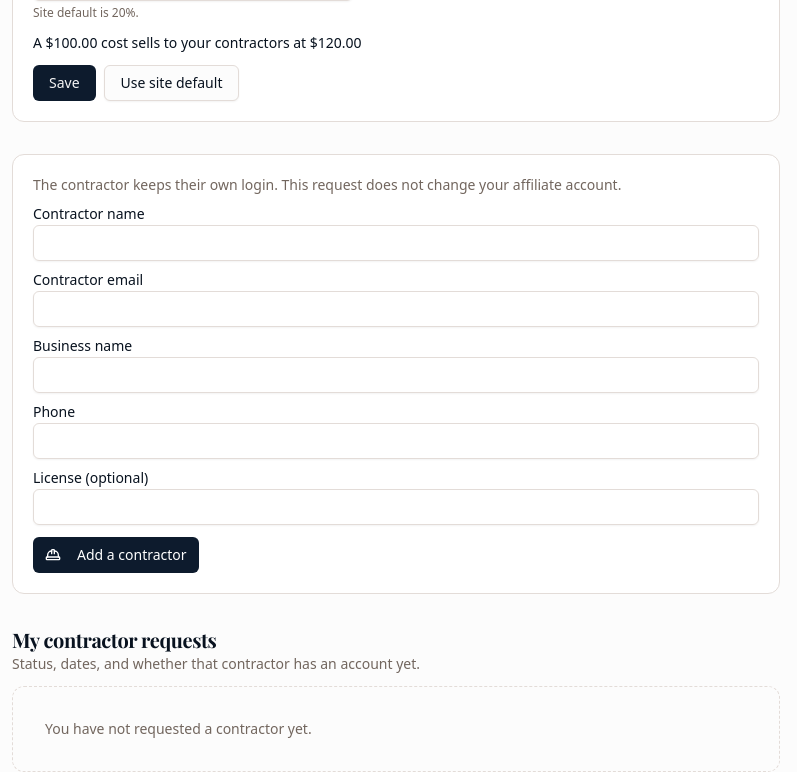
Scenario: Add a contractor › requires contractor identity plus the shared application fields
(page scrolled)
Click the button "Add a contractor" at (116, 555), box [33, 537, 199, 573]
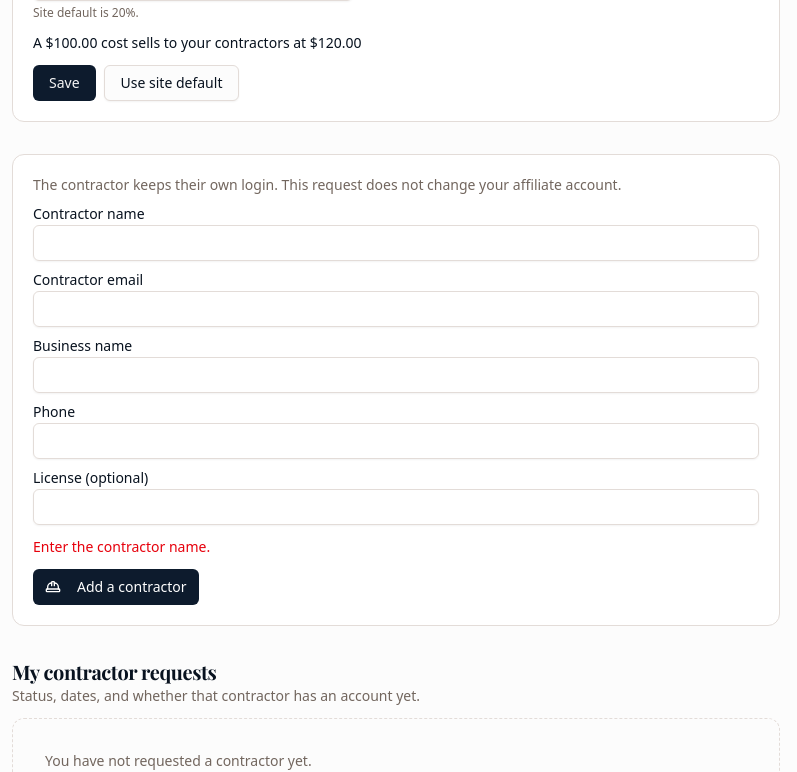
Now the message reads "Enter the contractor name.", box [33, 537, 210, 556]
Type "Sam Builder" into the field labelled "Contractor name" at (396, 243), box [33, 225, 759, 261]
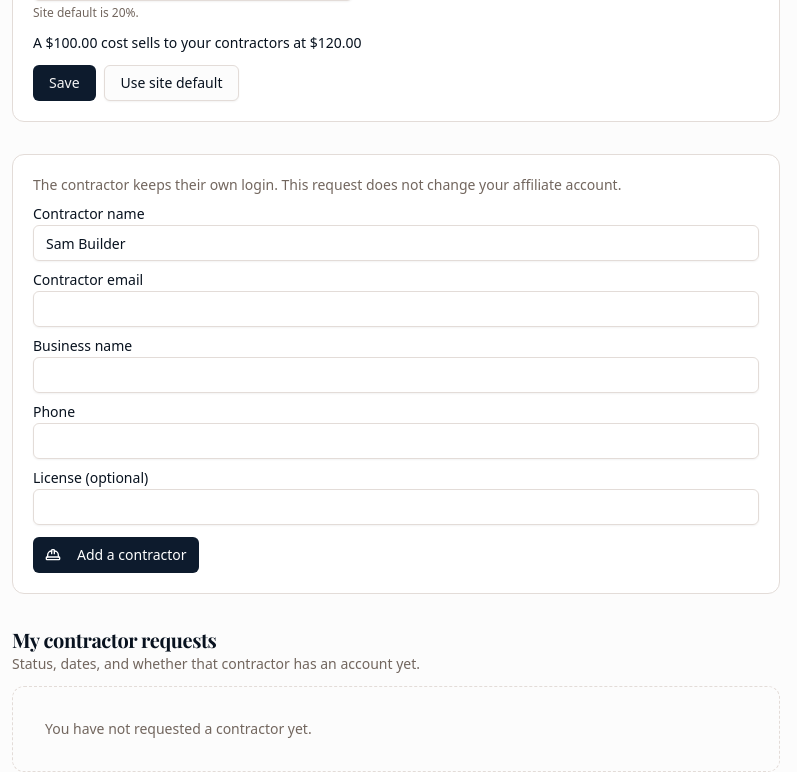
Type "not-an-email" into the field labelled "Contractor email" at (396, 309), box [33, 291, 759, 327]
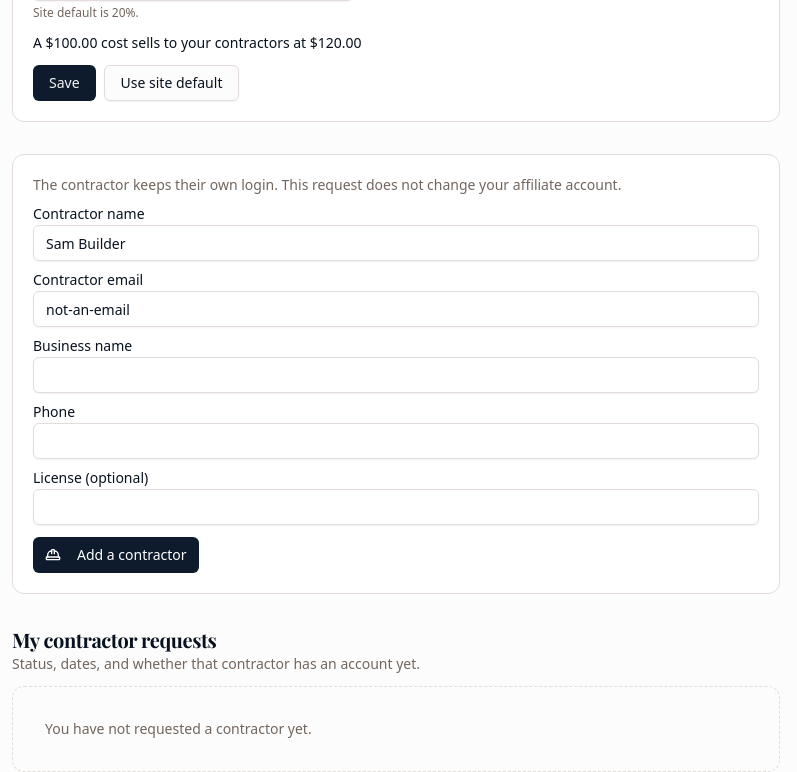
Click the button "Add a contractor" at (116, 555), box [33, 537, 199, 573]
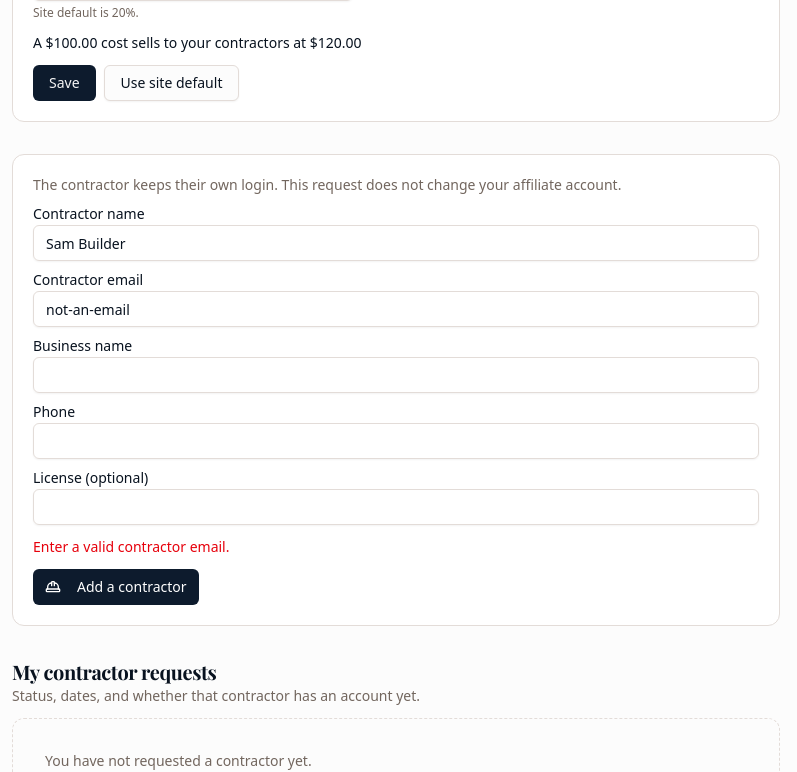
Now the message reads "Enter a valid contractor email.", box [33, 537, 230, 556]
